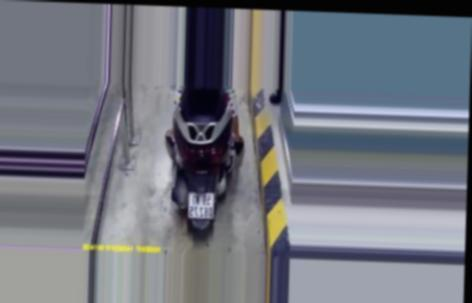License_Plate: (186, 189, 219, 223)
